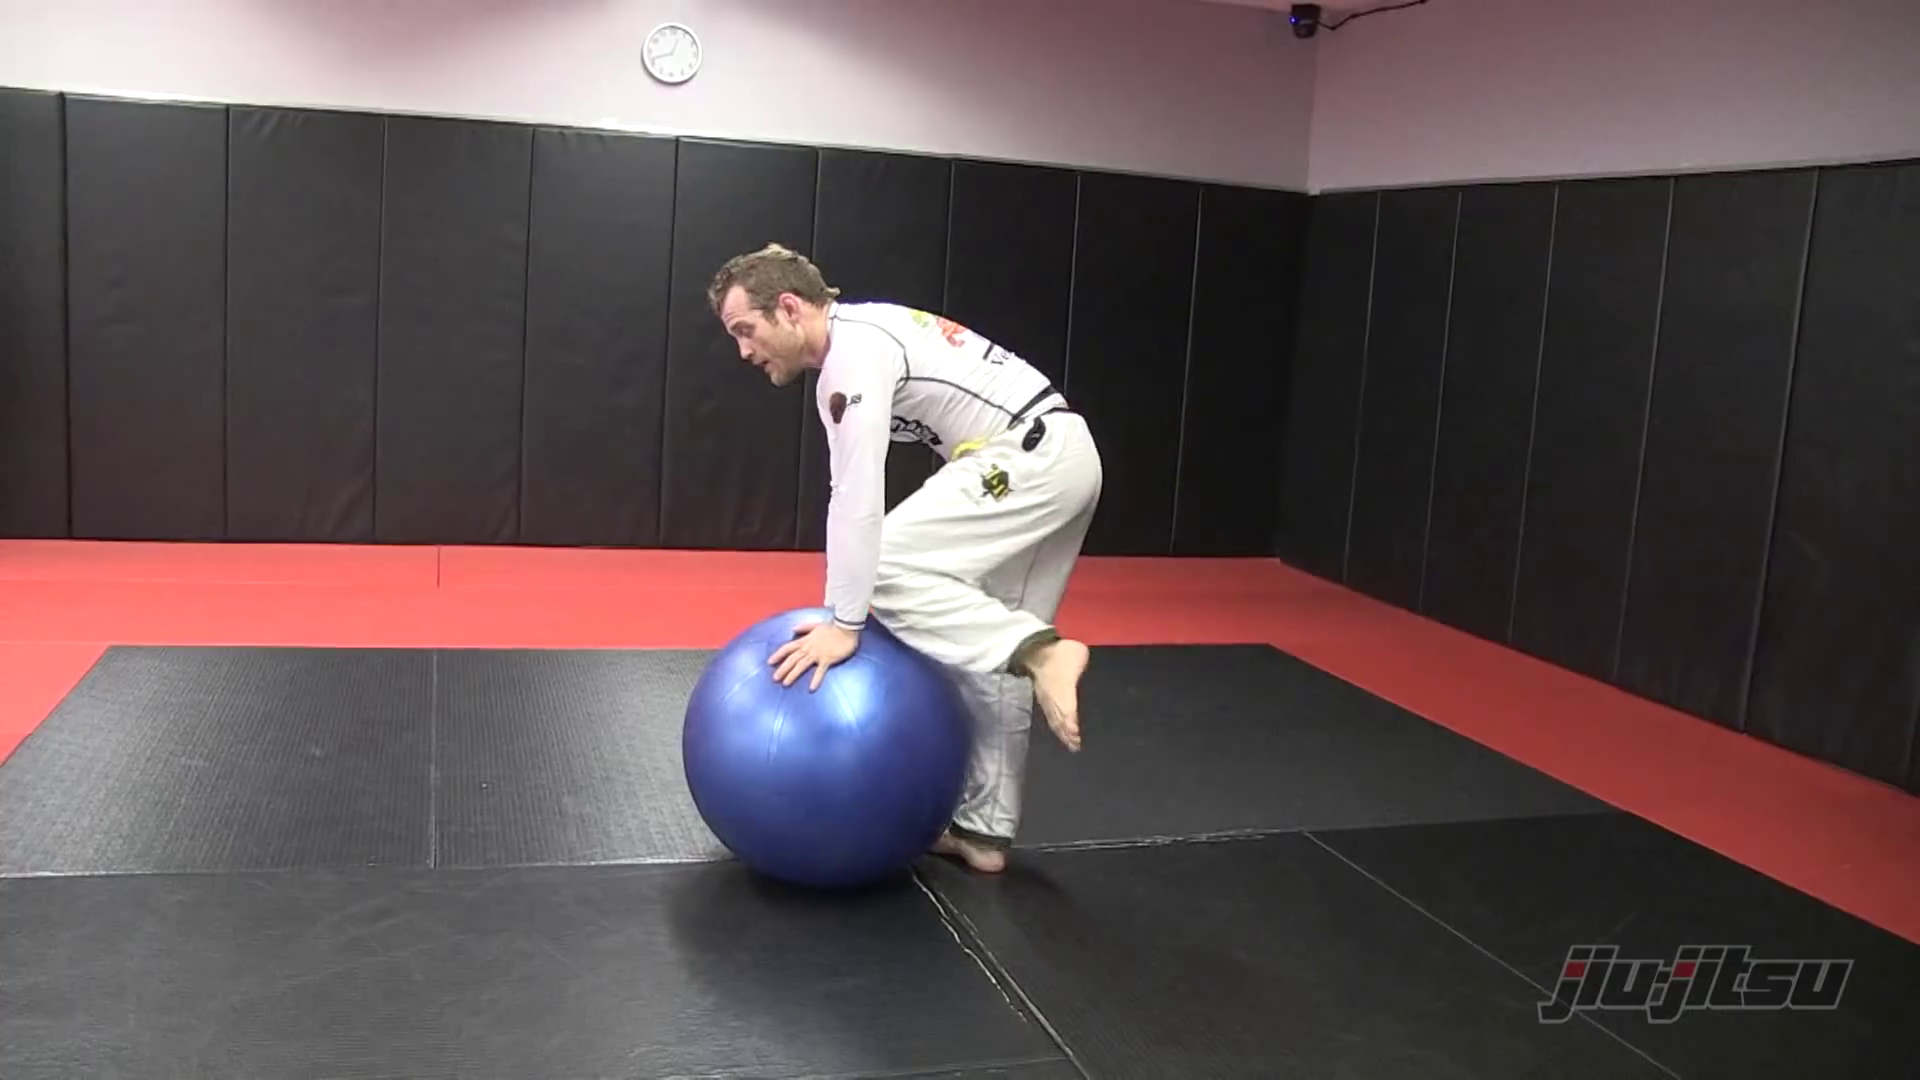yogaball: (665, 592, 984, 909)
